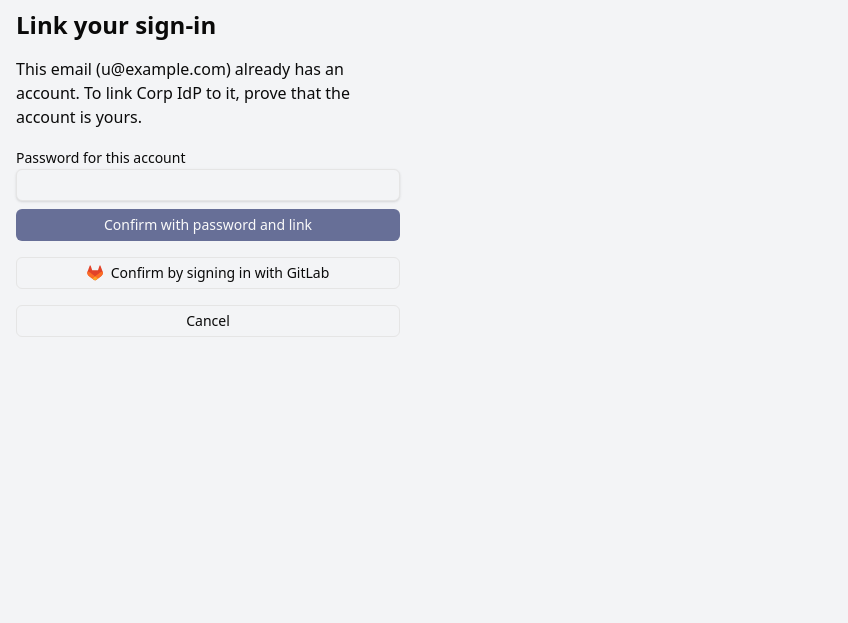
Scenario: LinkAccountPage（#187 §9.4 /link-account） › 取消 → POST cancel、toast 說明、導 /login
Click the button "Cancel": (208, 321) x1=16 y1=305 x2=400 y2=337
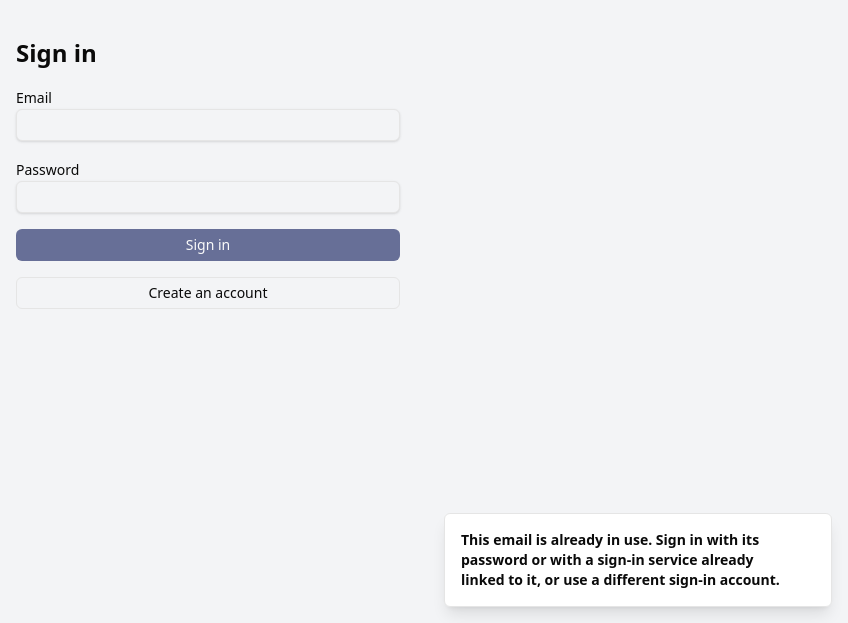
Result: the text "This email is already in use" is shown at x1=461 y1=530 x2=780 y2=589
